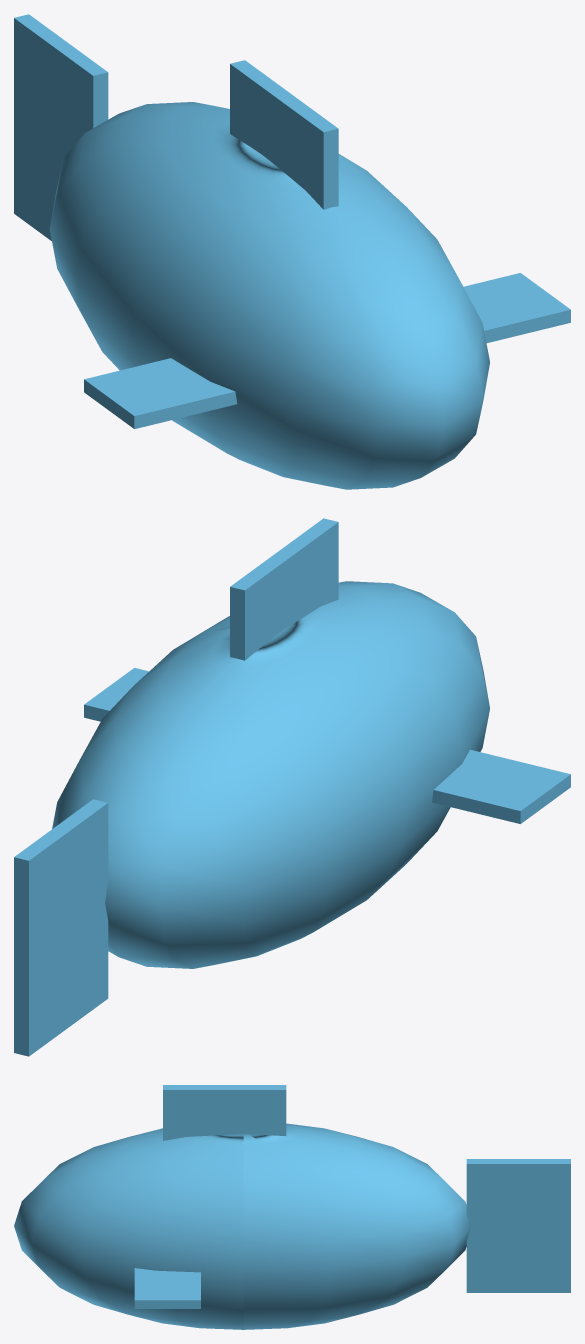
The model's file is 548d4b86-24aa-4f9c-b573-193bf2efd029.glb.
The picture shows the model from 3 angles, top to bottom: view 1: azimuth 30°, elevation 25°; view 2: azimuth 150°, elevation 25°; view 3: azimuth 270°, elevation 25°; orthographic projection. The views are drawn at different scales.
Visible parts, largest first — view 1: Generated3DMesh; view 2: Generated3DMesh; view 3: Generated3DMesh.
Part boxes in pixels (bbox=[...]): Generated3DMesh: bbox=[14, 14, 570, 489]; Generated3DMesh: bbox=[14, 518, 570, 1056]; Generated3DMesh: bbox=[14, 1085, 570, 1329].
Size of the model in its own units: 1.75 by 1.36 by 2.94.
